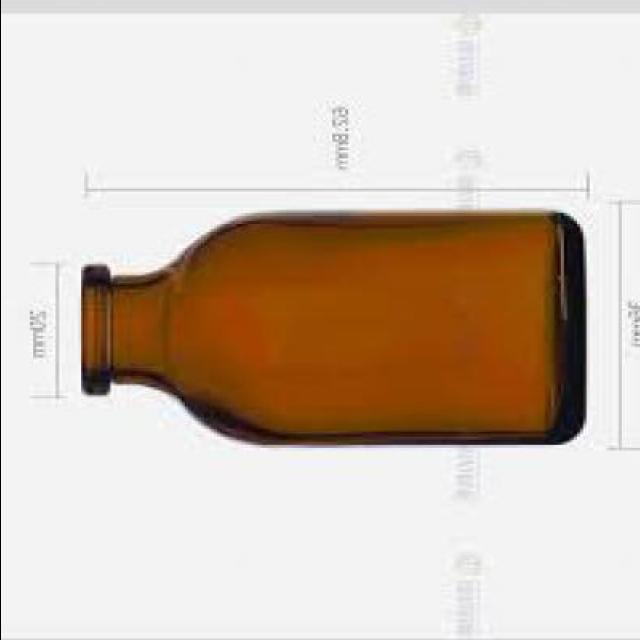kaca: (77, 204, 586, 442)
